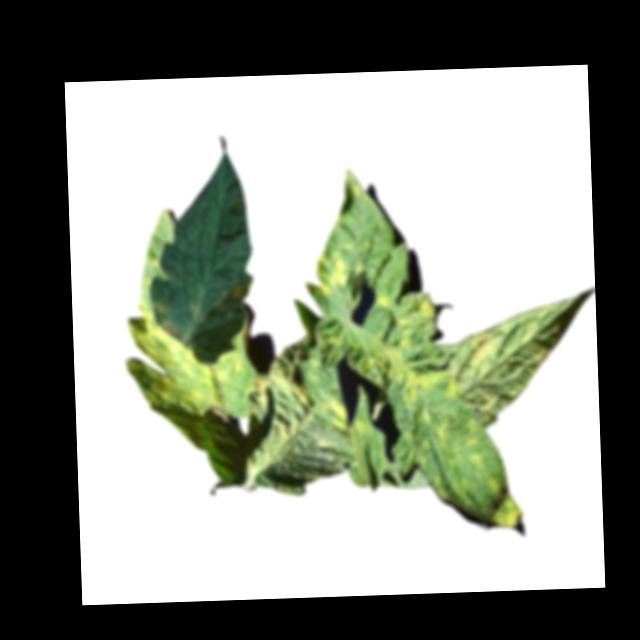Leaf_Mold: (125, 298, 264, 417), (378, 342, 464, 408), (308, 246, 351, 302), (378, 291, 436, 329), (491, 488, 524, 531), (319, 399, 350, 432), (468, 329, 499, 358)
